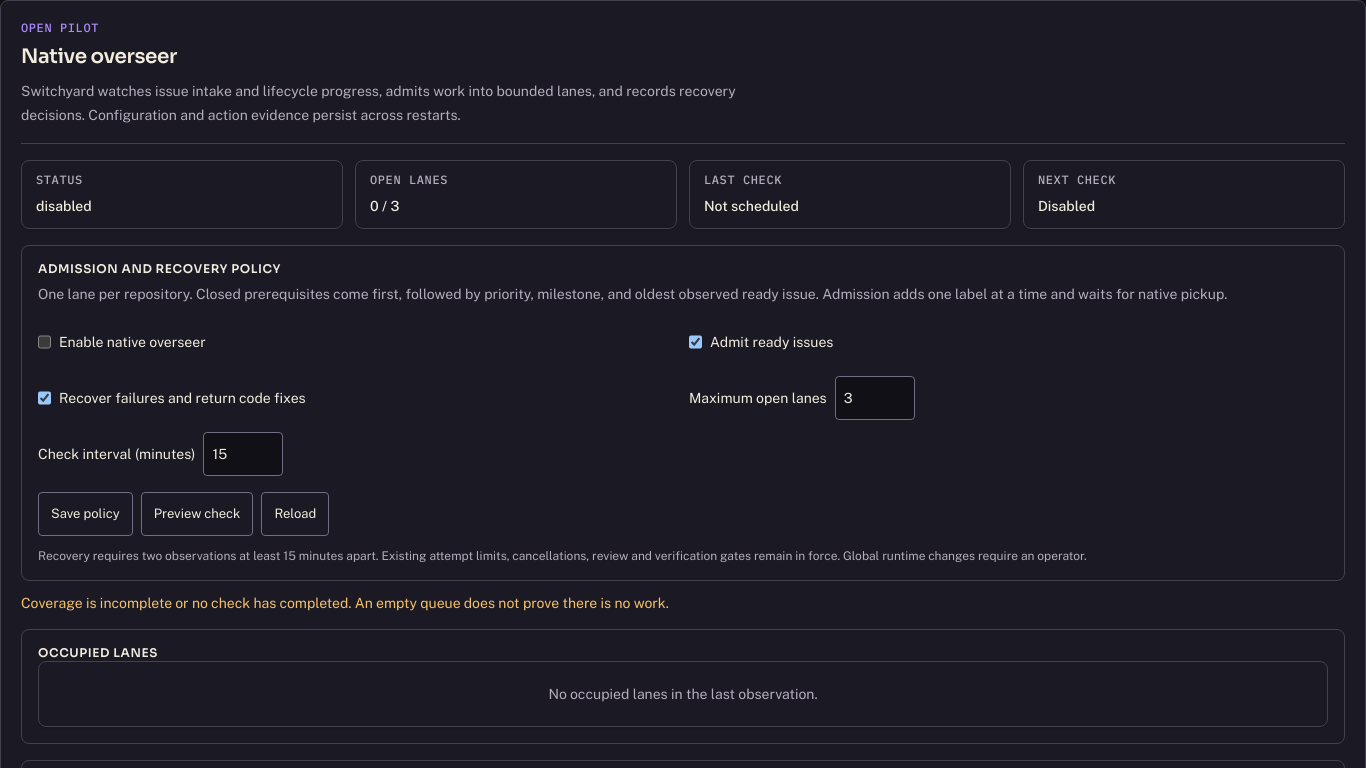
Test: reads back a persisted partial preview and explains the guard that blocked it
Click the button "Preview check": (197, 514) [141,492,253,536]
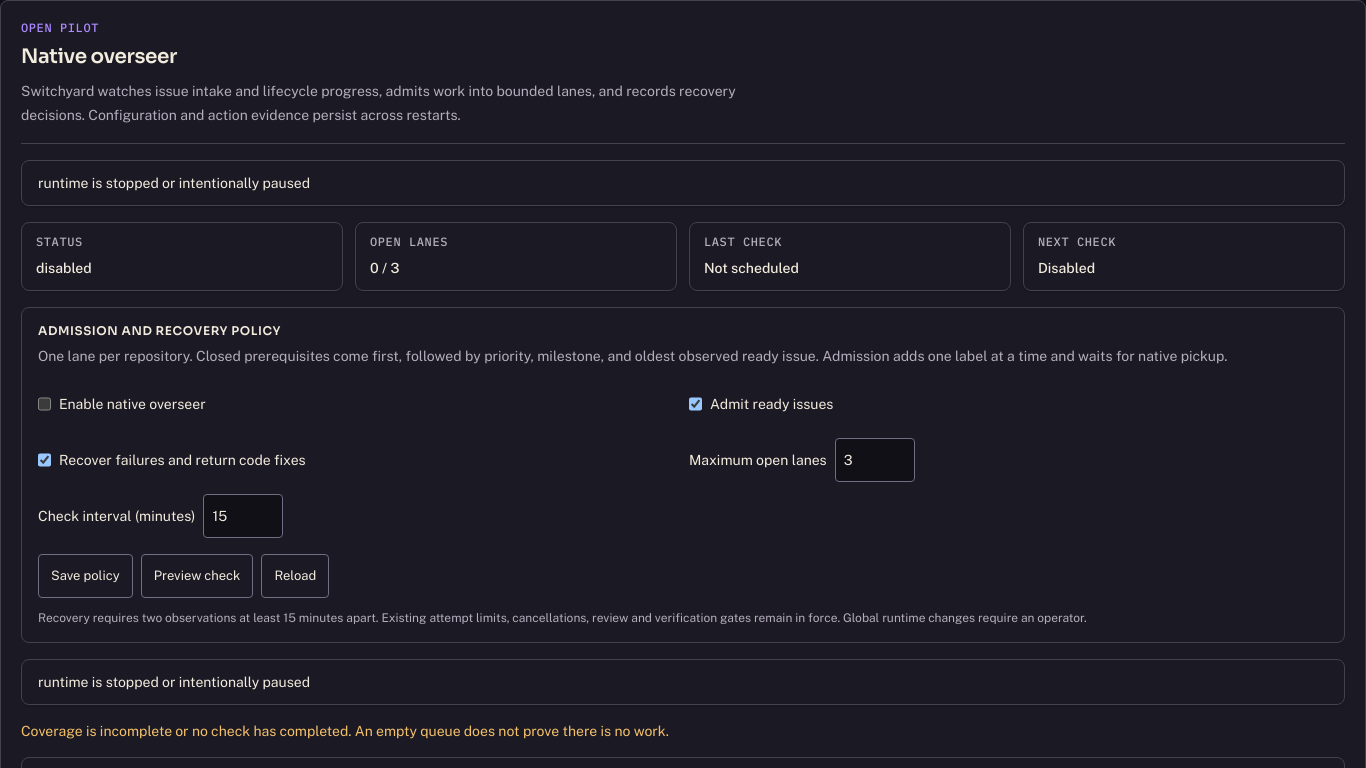
Expected: the message "runtime is stopped or intentionally paused" is shown, [21,160,1345,206]
